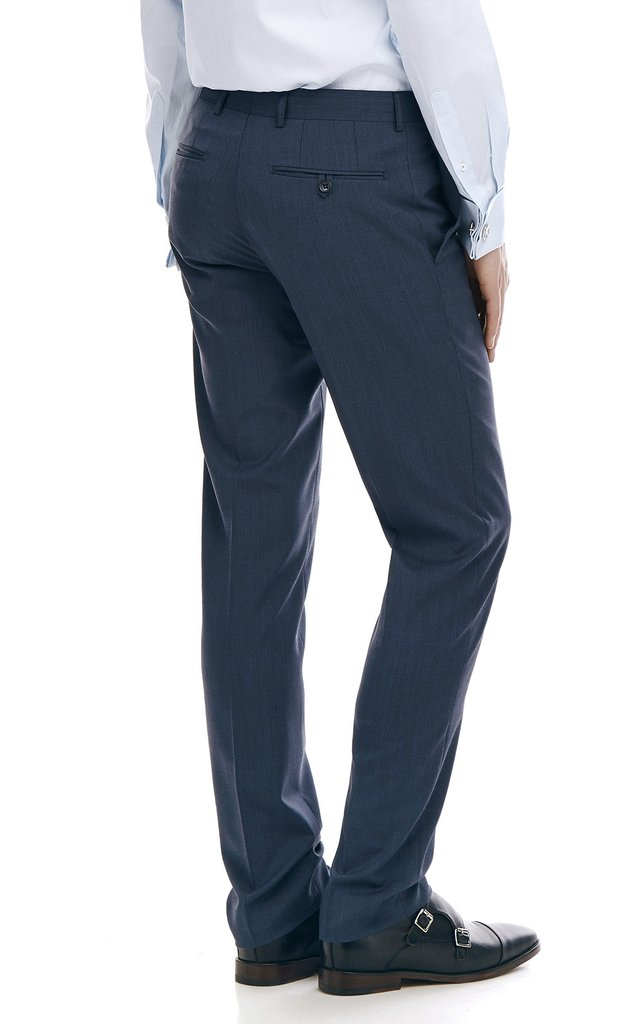feet: (200, 835, 542, 996)
